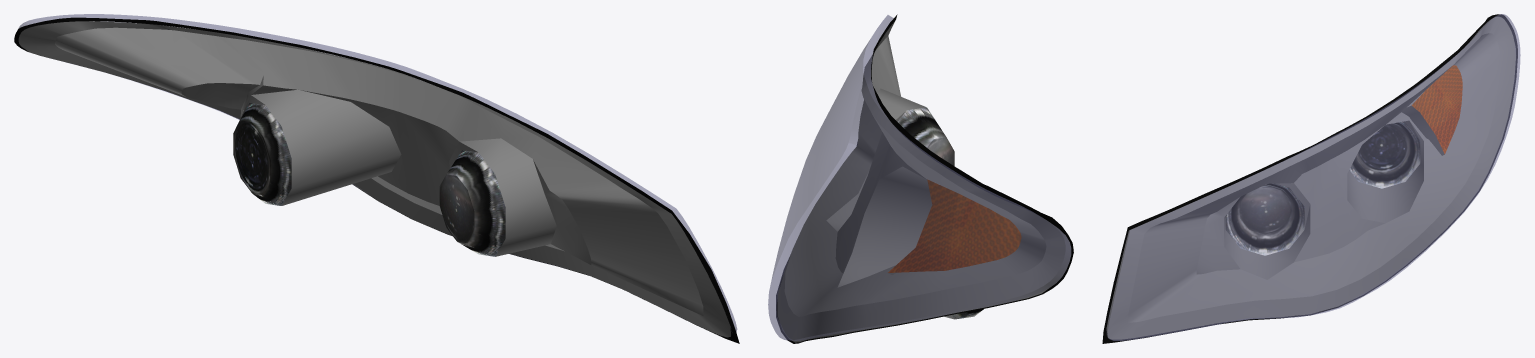
3 renders of one model, left to right at view 1: azimuth 30°, elevation 25°; view 2: azimuth 150°, elevation 25°; view 3: azimuth 270°, elevation 25°, orthographic. The views are drawn at different scales.
Visible parts, largest first — view 1: E233_061B_L_E233_061B_L_4_DaS, E233_061B_L_1_N_E233_061B_L, E233_061B_L_E233_061B_L_2_N, E233_061B_L_E233_061B_L_6_DTaSI, E233_061B_L_E233_061B_L_7_D; view 2: E233_061B_L_E233_061B_L_6_DTaSI, E233_061B_L_E233_061B_L_4_DaS, E233_061B_L_E233_061B_L_3_N, E233_061B_L_E233_061B_L_7_D, E233_061B_L_1_N_E233_061B_L; view 3: E233_061B_L_E233_061B_L_6_DTaSI, E233_061B_L_E233_061B_L_4_DaS, E233_061B_L_1_N_E233_061B_L, E233_061B_L_E233_061B_L_2_N, E233_061B_L_E233_061B_L_7_D, E233_061B_L_E233_061B_L_3_N.
Boxes of the visible parts, bbox=[...] form: E233_061B_L_E233_061B_L_4_DaS: bbox=[18, 21, 730, 337]; E233_061B_L_1_N_E233_061B_L: bbox=[439, 150, 505, 256]; E233_061B_L_E233_061B_L_2_N: bbox=[233, 103, 291, 205]; E233_061B_L_E233_061B_L_6_DTaSI: bbox=[18, 14, 737, 332]; E233_061B_L_E233_061B_L_7_D: bbox=[14, 17, 739, 343]; E233_061B_L_E233_061B_L_6_DTaSI: bbox=[768, 15, 1070, 340]; E233_061B_L_E233_061B_L_4_DaS: bbox=[777, 20, 1071, 342]; E233_061B_L_E233_061B_L_3_N: bbox=[888, 179, 1021, 272]; E233_061B_L_E233_061B_L_7_D: bbox=[776, 14, 1073, 343]; E233_061B_L_1_N_E233_061B_L: bbox=[898, 107, 954, 165]; E233_061B_L_E233_061B_L_6_DTaSI: bbox=[1106, 14, 1520, 340]; E233_061B_L_E233_061B_L_4_DaS: bbox=[1106, 16, 1515, 339]; E233_061B_L_1_N_E233_061B_L: bbox=[1225, 183, 1304, 255]; E233_061B_L_E233_061B_L_2_N: bbox=[1349, 122, 1420, 188]; E233_061B_L_E233_061B_L_7_D: bbox=[1102, 14, 1517, 343]; E233_061B_L_E233_061B_L_3_N: bbox=[1412, 65, 1462, 153].
Bounding box in the file's own units: 49.1 × 24.73 × 53.37.
